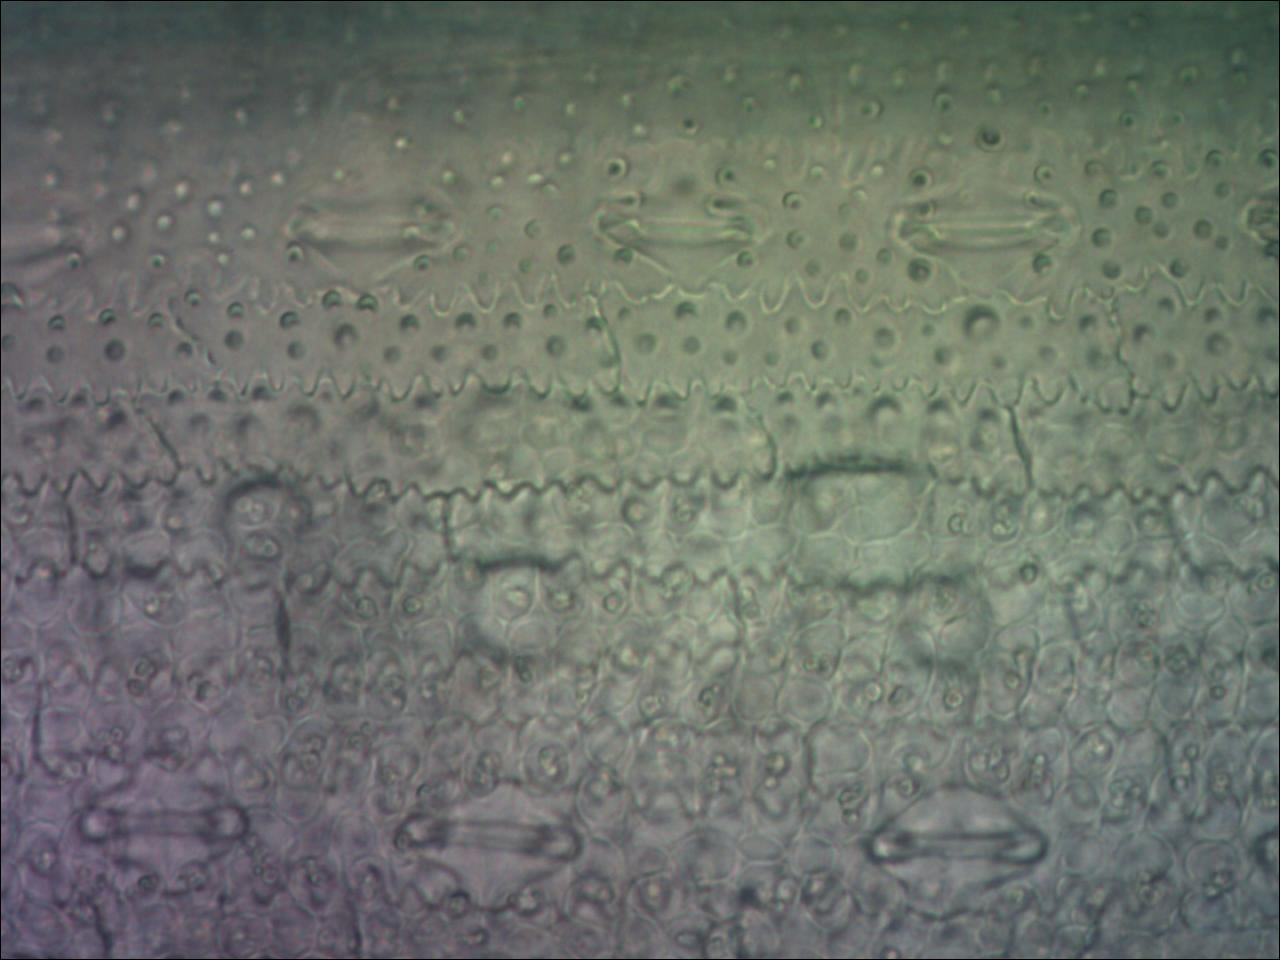stoma: (387, 768, 591, 910), (69, 756, 257, 888), (883, 178, 1092, 293), (862, 776, 1054, 901), (587, 171, 770, 301), (275, 171, 462, 291), (1, 195, 99, 294), (1234, 179, 1280, 266), (1242, 808, 1280, 899)
